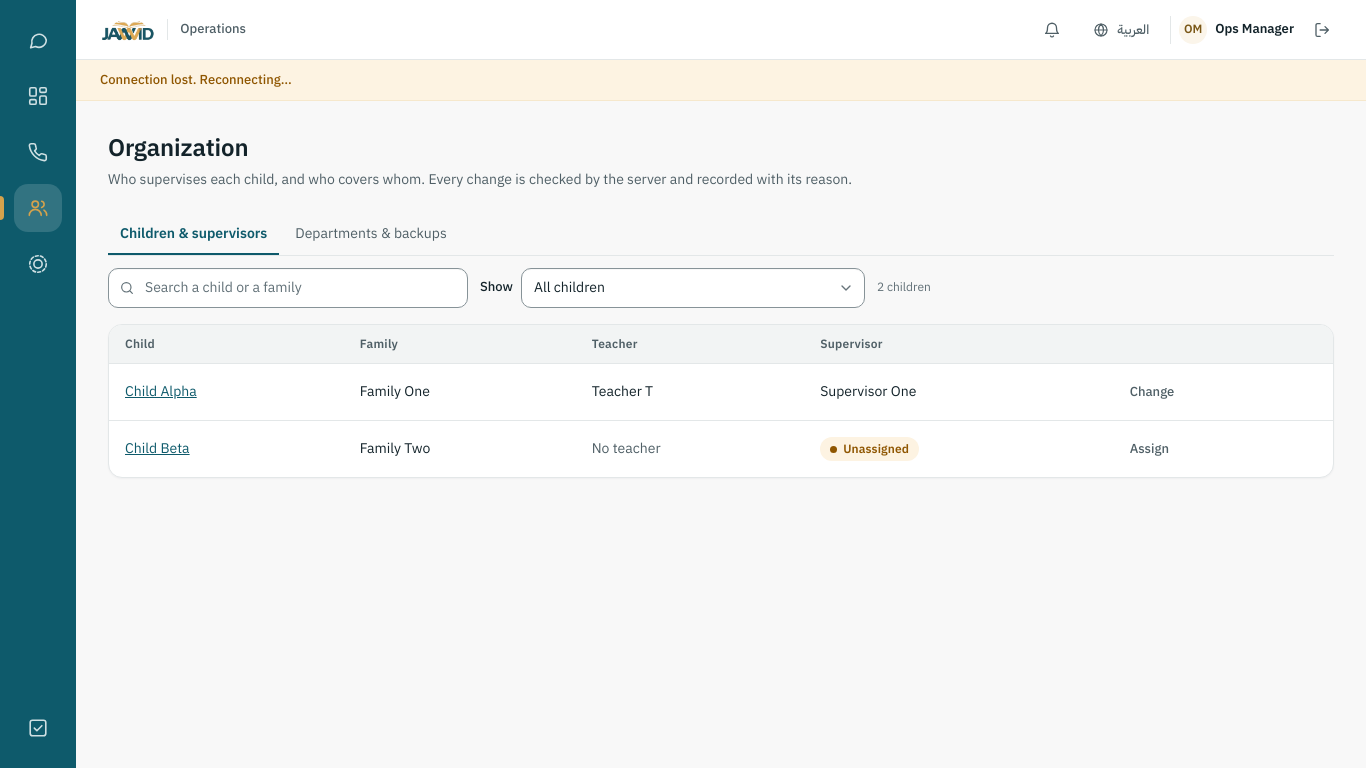
Test: departments and backup supervisors › shows each link with its status, and only the actions that status allows
Click the tab "Departments & backups". click: click(371, 235)
box: [283, 215, 459, 254]
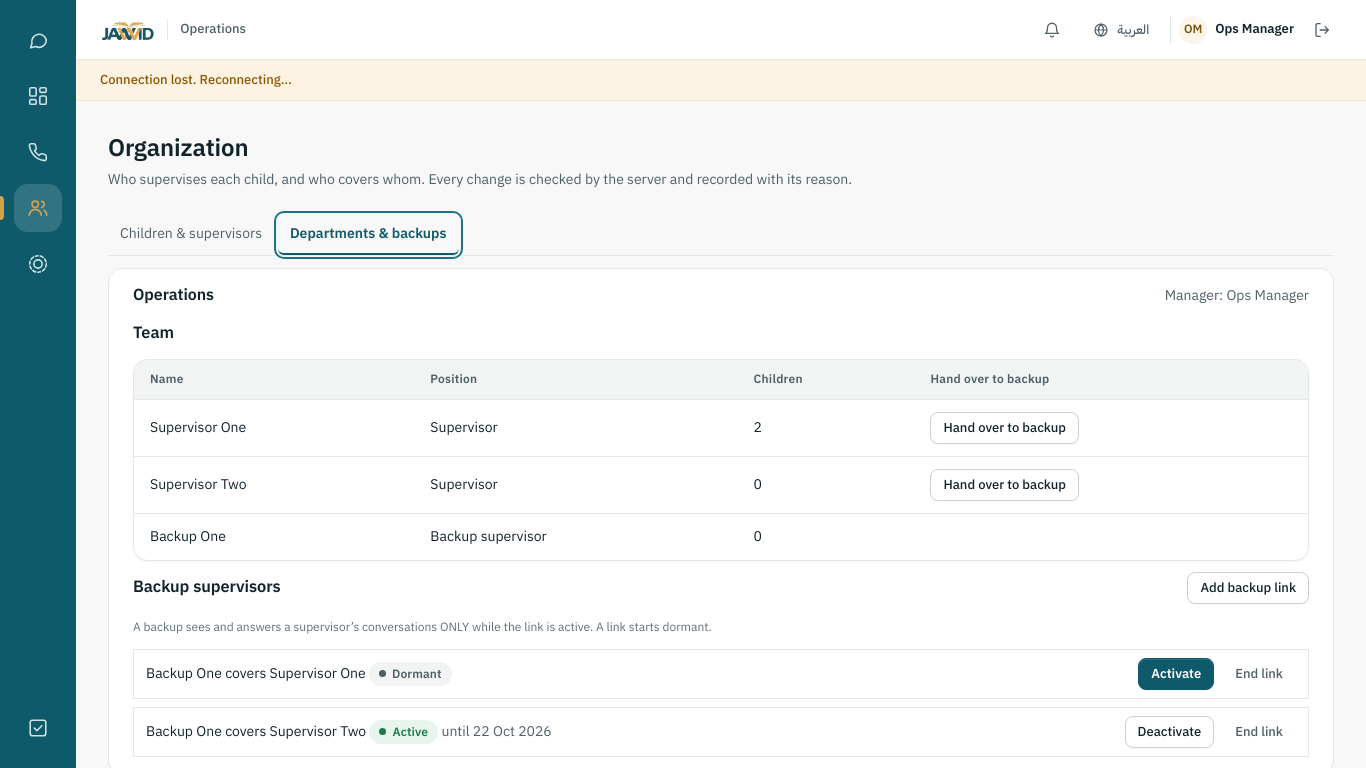
Check: the text "Dormant" is shown, box [369, 662, 452, 686]
Check: the button with aria-label "Activate — Backup One covers Supervisor One" is shown, box [1138, 658, 1214, 690]
Check: the text "Active" is shown, box [370, 720, 438, 744]
